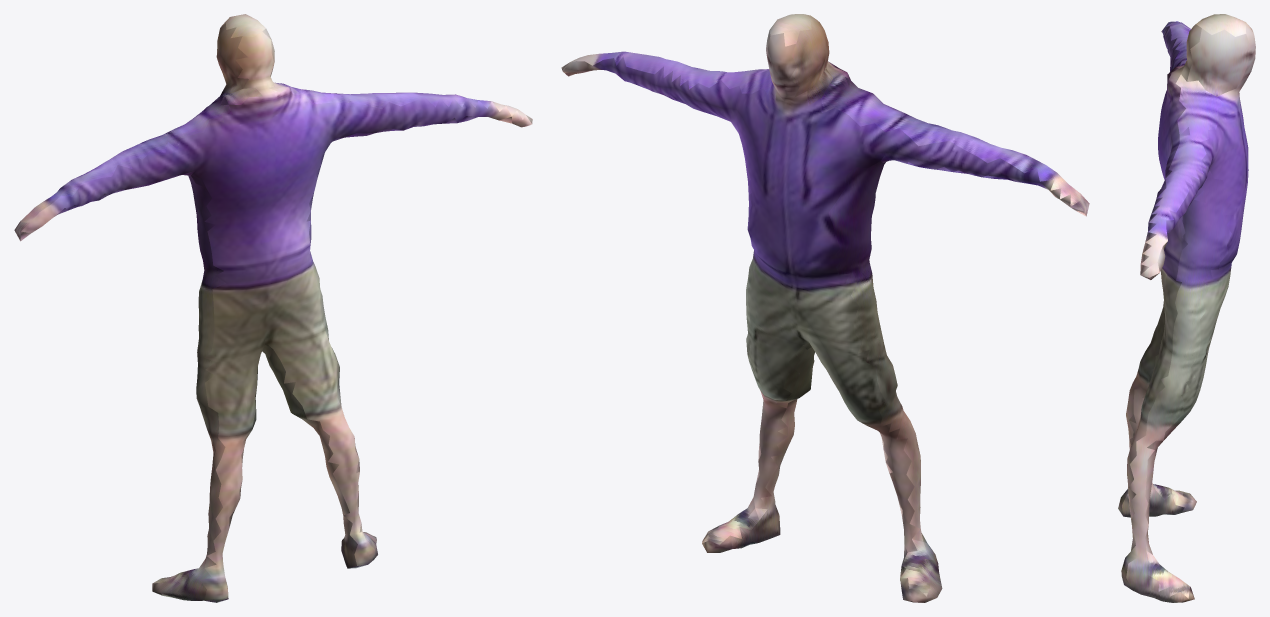
The picture shows the model from 3 angles, left to right: view 1: azimuth 30°, elevation 25°; view 2: azimuth 150°, elevation 25°; view 3: azimuth 270°, elevation 25°; orthographic projection. The views are drawn at different scales.
Visible parts, largest first — view 1: world; view 2: world; view 3: world.
Part boxes in pixels (x1,y1,x2,y2): world: (14, 14, 532, 602); world: (561, 14, 1089, 602); world: (1118, 14, 1255, 602).
Bounding box in the file's own units: 0.9848 × 1 × 0.2328.
Materials: 1 (1 with a texture image).
